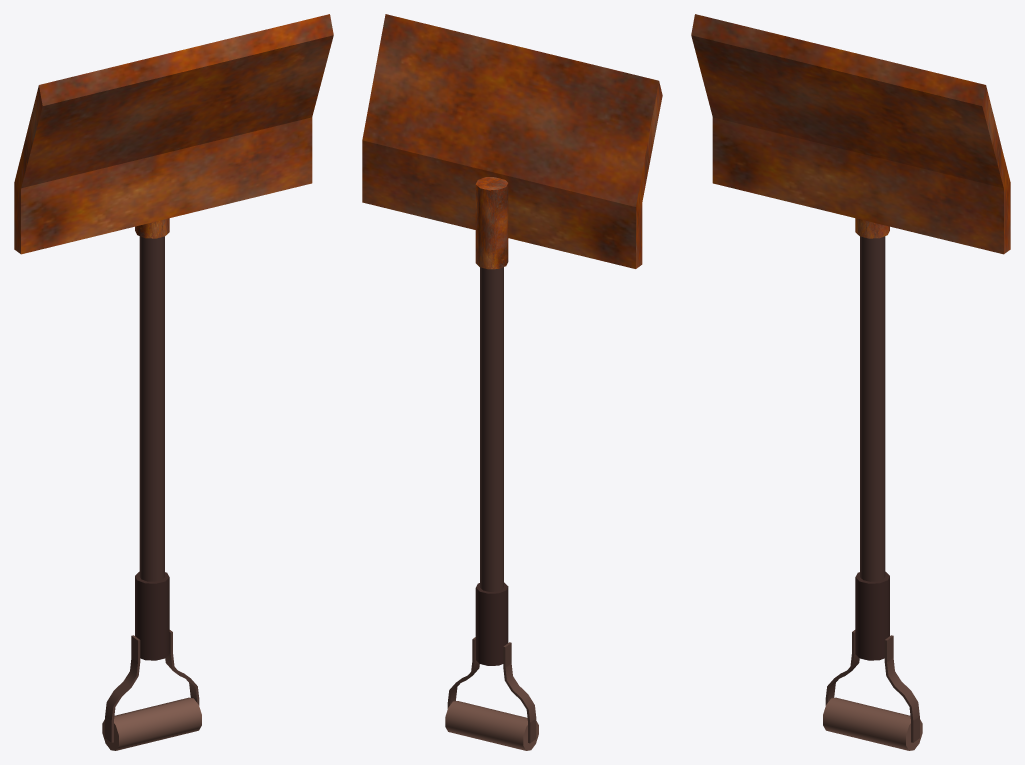
File: Xeng ri set.fbx
3 views of the same model, side by side, from view 1: azimuth 30°, elevation 25°; view 2: azimuth 150°, elevation 25°; view 3: azimuth 330°, elevation 25° (orthographic). The views are drawn at different scales.
Visible parts, largest first — view 1: L2, C2, TC2; view 2: L2, C2, TC2; view 3: L2, C2, TC2.
Part boxes in pixels (x1,y1,x2,y2): L2: (14, 14, 333, 254); C2: (139, 236, 164, 581); TC2: (102, 571, 201, 750); L2: (362, 14, 662, 269); C2: (480, 267, 503, 591); TC2: (445, 582, 538, 750); L2: (691, 14, 1010, 254); C2: (860, 236, 885, 581); TC2: (823, 571, 922, 750).
Bounding box in the file's own units: 128 × 301 × 33.8.
